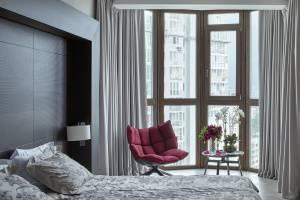window: (141, 7, 260, 173)
